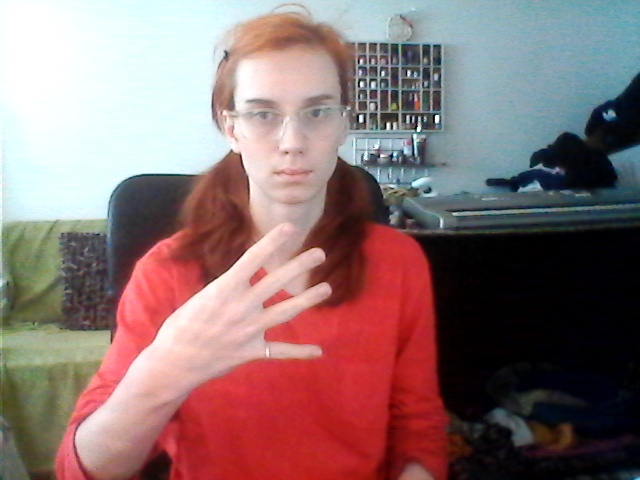styri: (149, 220, 340, 370)
